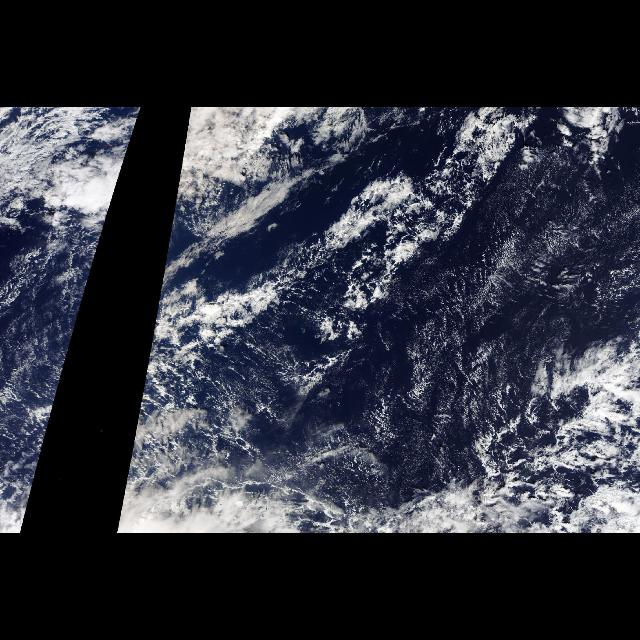Fish: (142, 107, 638, 531)
Sugar: (328, 162, 628, 436), (6, 231, 92, 441)
